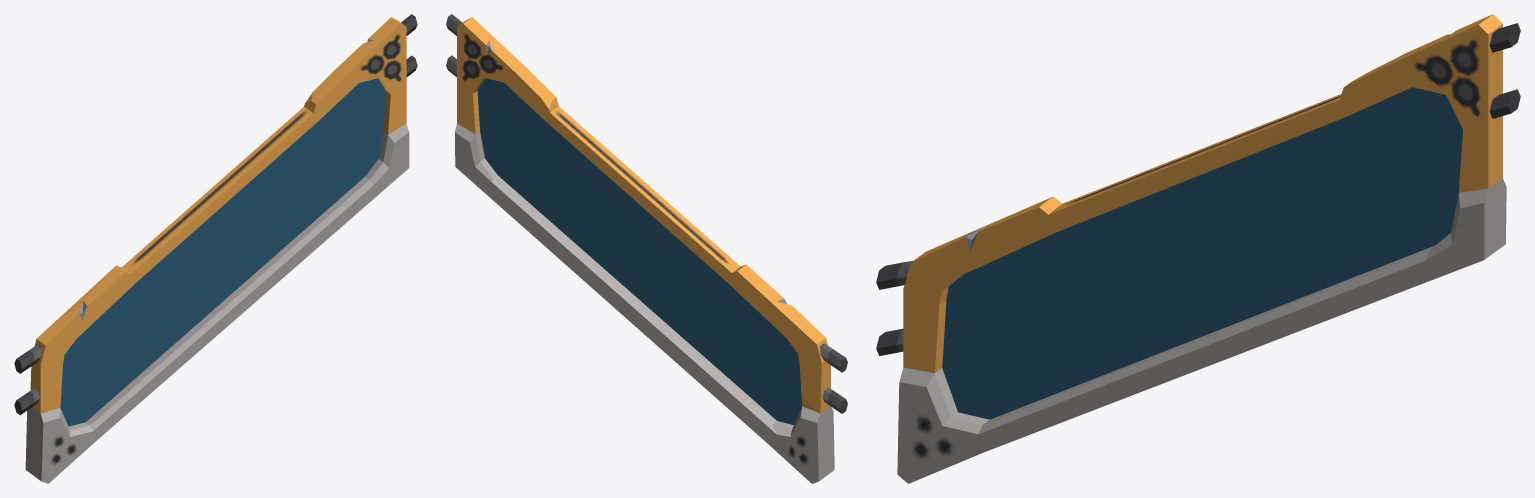
Rendered from SM_Bld_Railing_Rail_Stairs_02.fbx.
3 renders of one model, left to right at view 1: azimuth 30°, elevation 25°; view 2: azimuth 150°, elevation 25°; view 3: azimuth 330°, elevation 25°, orthographic. The views are drawn at different scales.
Parts seen in each view (by area): view 1: SM_Bld_Railing_Base_Rail_Stairs_HoloWall, SM_Bld_Railing_Rail_Stairs_02; view 2: SM_Bld_Railing_Base_Rail_Stairs_HoloWall, SM_Bld_Railing_Rail_Stairs_02; view 3: SM_Bld_Railing_Base_Rail_Stairs_HoloWall, SM_Bld_Railing_Rail_Stairs_02.
Boxes of the visible parts, bbox=[...] form: SM_Bld_Railing_Base_Rail_Stairs_HoloWall: bbox=[60, 78, 386, 426]; SM_Bld_Railing_Rail_Stairs_02: bbox=[14, 14, 417, 483]; SM_Bld_Railing_Base_Rail_Stairs_HoloWall: bbox=[477, 78, 802, 424]; SM_Bld_Railing_Rail_Stairs_02: bbox=[446, 14, 847, 483]; SM_Bld_Railing_Base_Rail_Stairs_HoloWall: bbox=[942, 87, 1462, 419]; SM_Bld_Railing_Rail_Stairs_02: bbox=[876, 14, 1520, 483].
Bounding box in the file's own units: 250 × 225 × 17.77.
